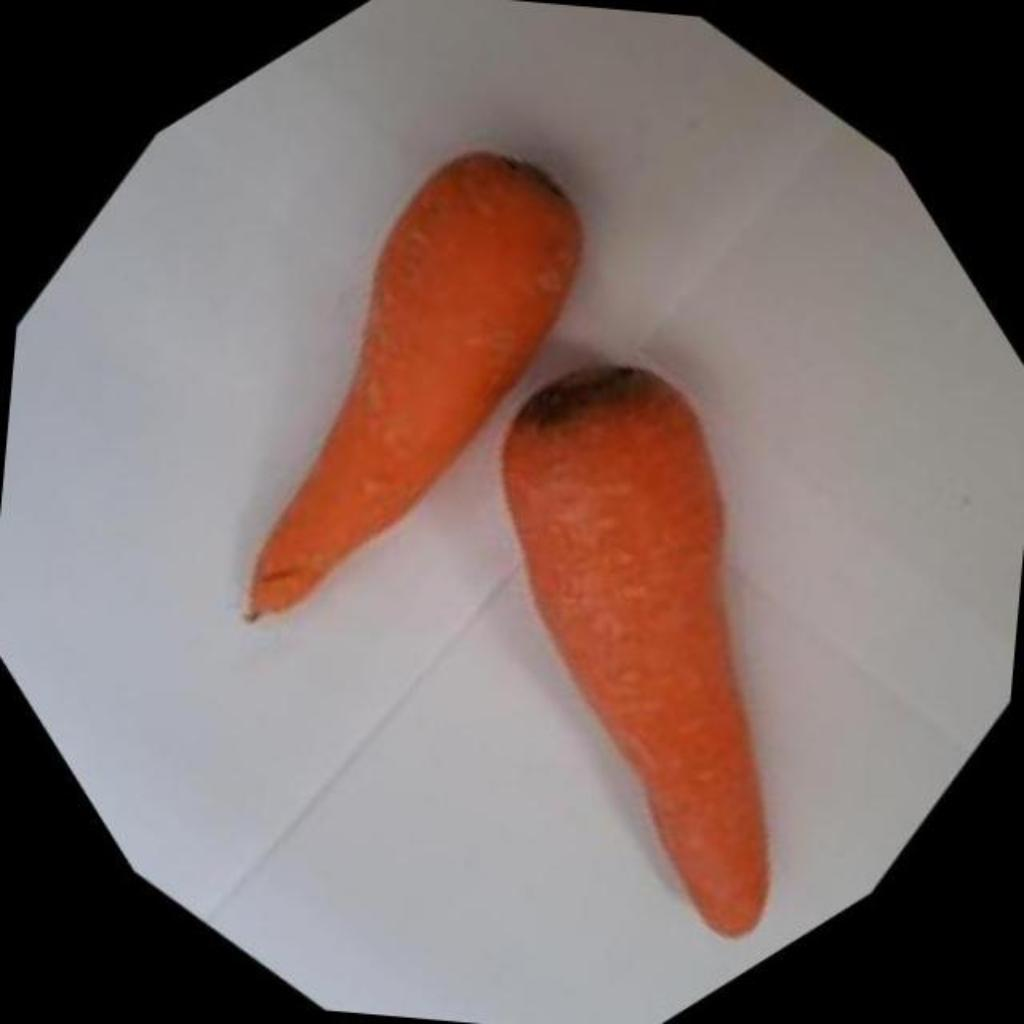carrot: (246, 152, 582, 620), (504, 368, 770, 935)
